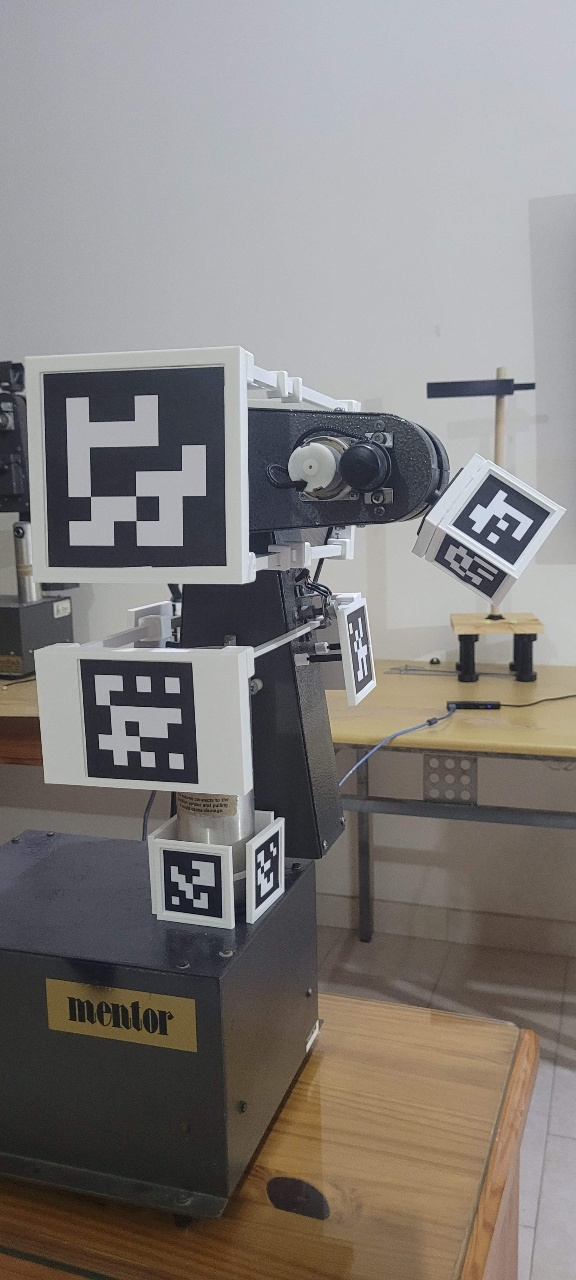Robot: (28, 346, 568, 931)
